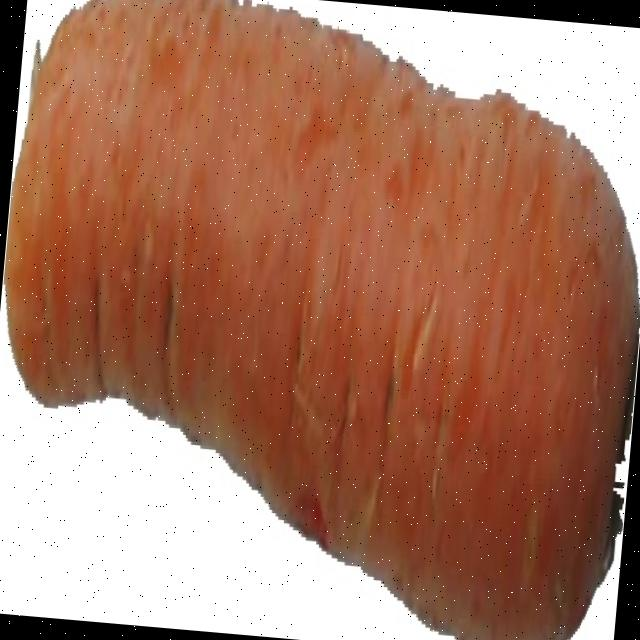carrot: (5, 0, 639, 640)
